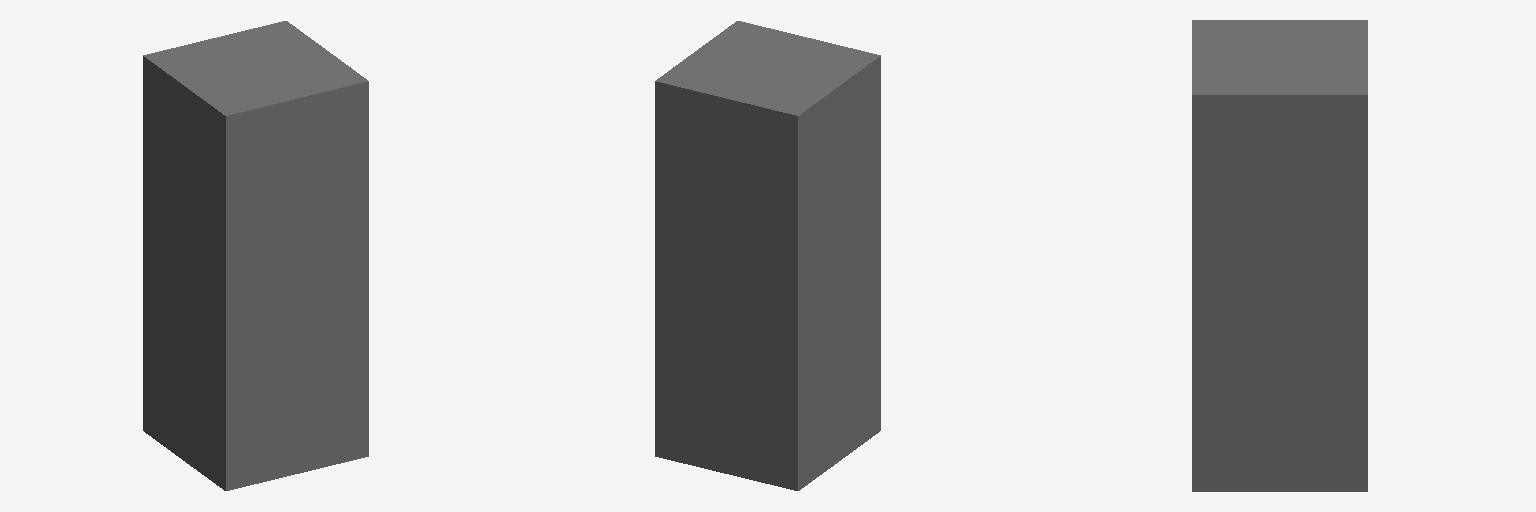
URDF robot description (wall):
<?xml version="1.0"?>
<robot name="wall">

  <link name="wall_link">
    <inertial>
      <mass value="0.0"/>
      <inertia ixx="0.0" ixy="0.0" ixz="0.0" iyy="0.0" iyz="0.0" izz="0.0"/>
    </inertial>

    <visual name="wall_visual">
      <geometry>
        <box size="1.0 1.0 2.5"/> </geometry>
      <material name="GrayTransparent">  <color rgba="0.5 0.5 0.5 0.5"/>  </material>
    </visual>

    <collision name="wall_collision">
      <geometry>
        <box size="1.0 1.0 2.5"/>
      </geometry>
    </collision>

    <joint name="fixed_joint" type="fixed">
      <parent name="world"/>
      <child name="wall_link"/>
    </joint>
  </link>
</robot>

--- What the picture shows (computed from the rendered views, not written in the file) ---
3 views of the same robot in one strip: view 1: azimuth 30°, elevation 25°; view 2: azimuth 150°, elevation 25°; view 3: azimuth 270°, elevation 25° (orthographic).
Robot: wall — 1 links, 0 joints (none); root link wall_link; default pose: all joints at 0.
Links seen in each view (by area): view 1: wall_link; view 2: wall_link; view 3: wall_link.
Link boxes in pixels (bbox=[...]): wall_link: bbox=[143, 21, 368, 490]; wall_link: bbox=[655, 21, 880, 490]; wall_link: bbox=[1192, 20, 1367, 491].
Size in the robot's own frame: 1 by 1 by 2.5 metres.
Geometry: primitives only (box / cylinder / sphere), no mesh files.